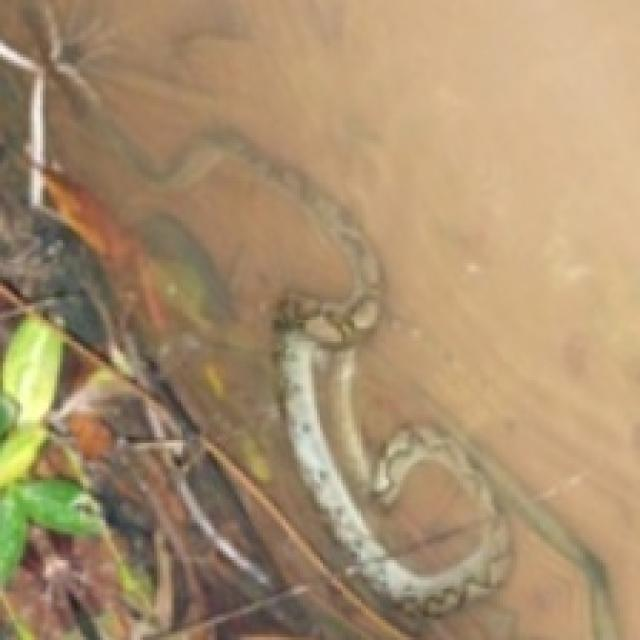reticulated python: (97, 120, 508, 613)
